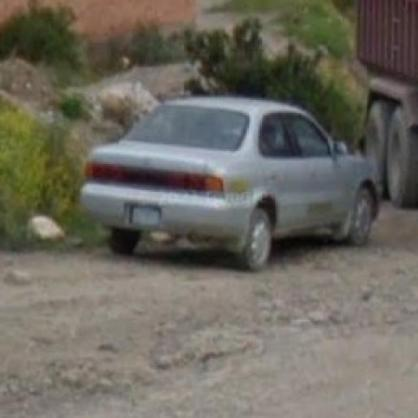car: (83, 94, 380, 270)
